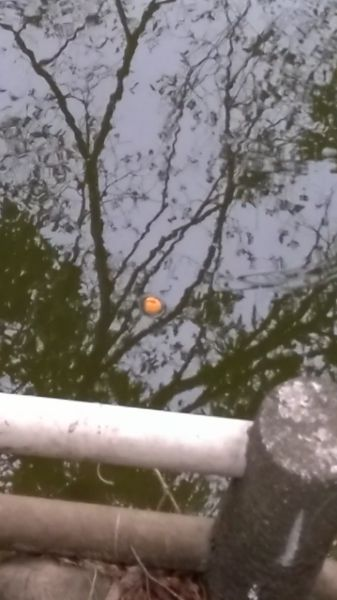eggs: (136, 292, 167, 321)
